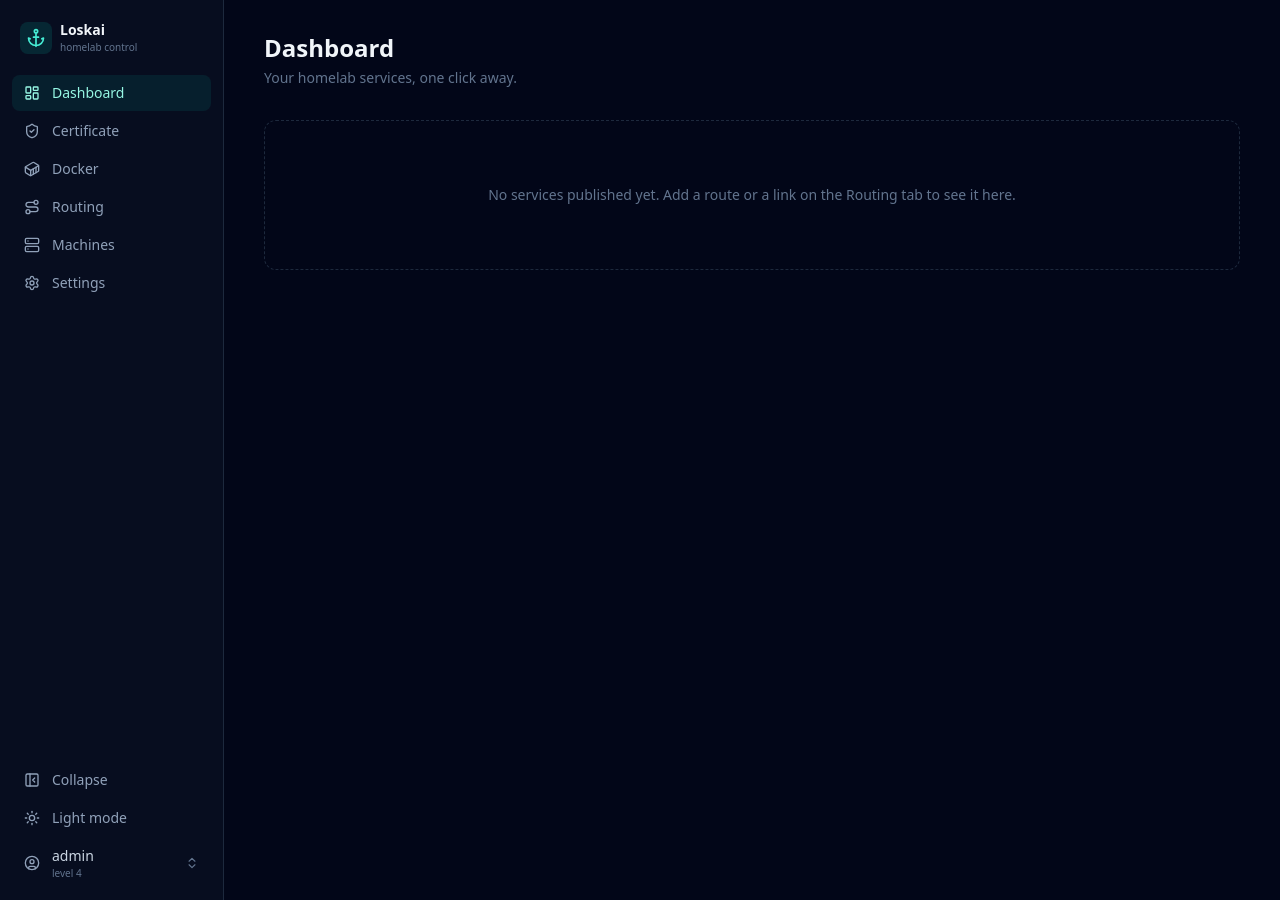
it: a logout that fails says so, and stays
The width and height of the screenshot is (1280, 900).
Click the button titled "Your account": (112, 863) [12,838,211,888]
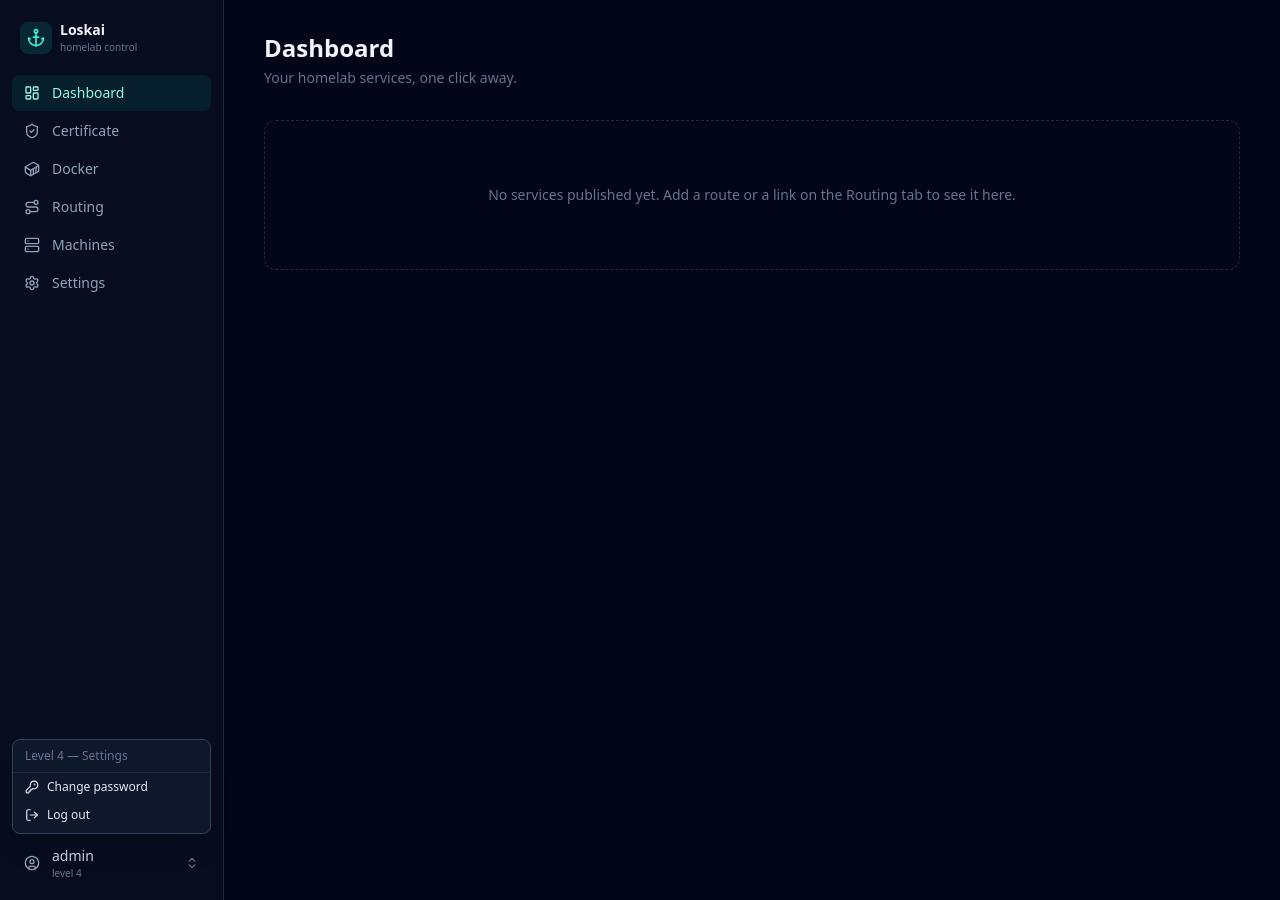
Click the menu item "Log out": (112, 815) [13,801,210,829]
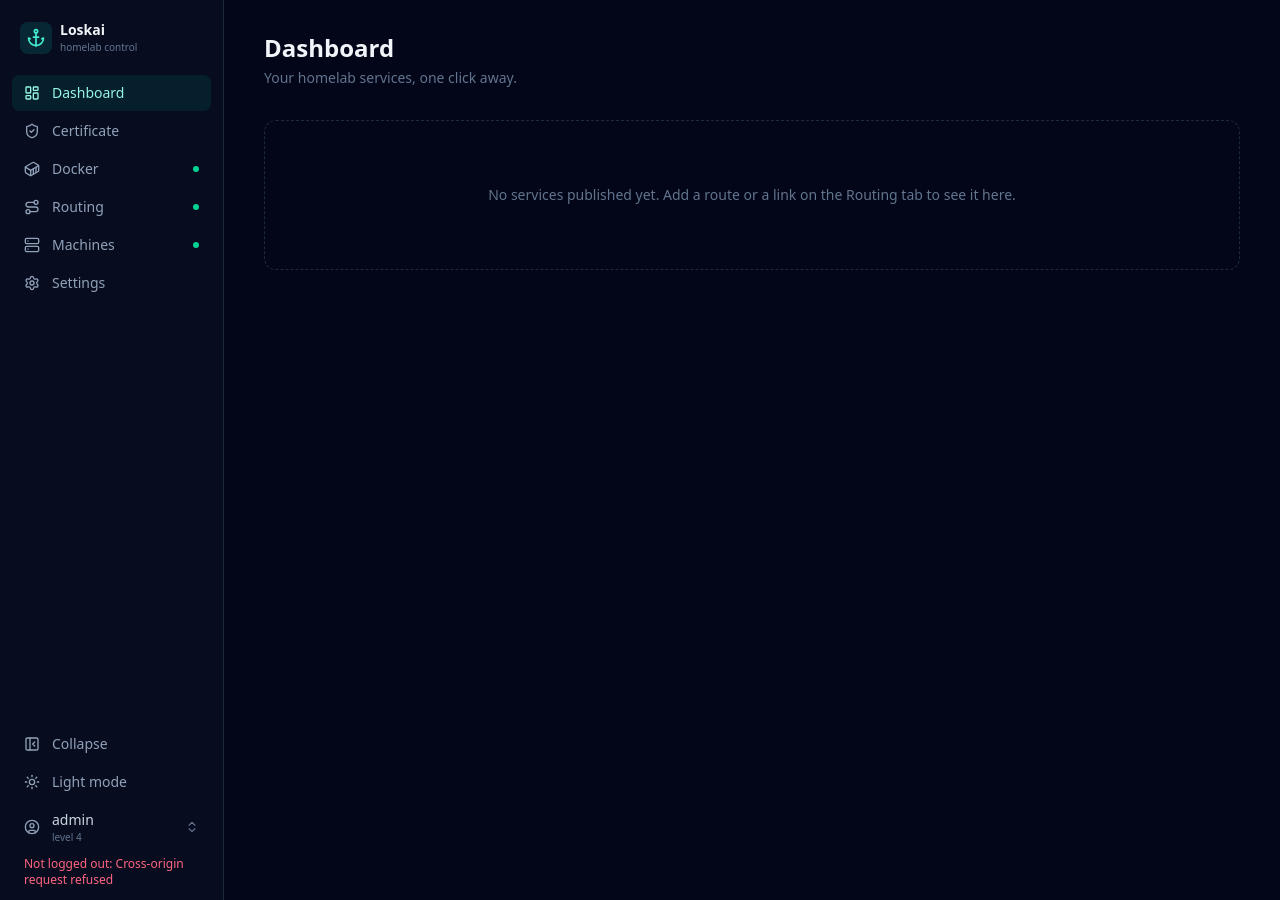
Result: the text "Not logged out: Cross-origin request refused" is shown at [24,855,184,888]
